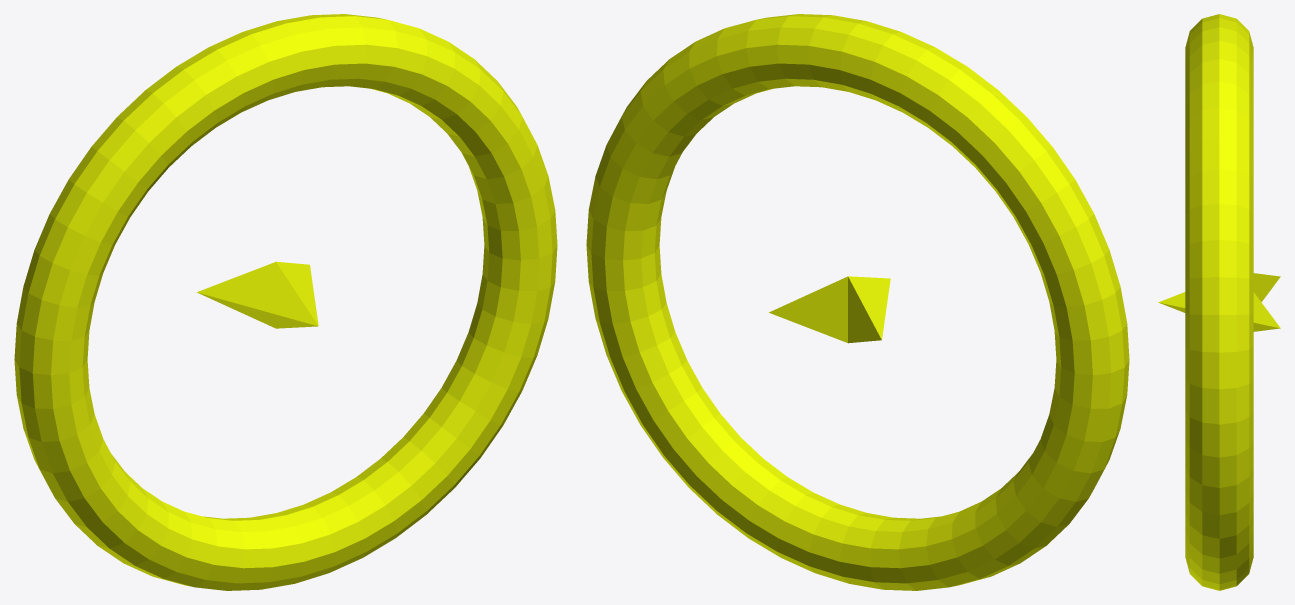
Rendered from ring.obj.
3 renders of one model, left to right at view 1: azimuth 30°, elevation 25°; view 2: azimuth 150°, elevation 25°; view 3: azimuth 270°, elevation 25°, orthographic. The views are drawn at different scales.
Parts seen in each view (by area): view 1: object_トーラス; view 2: object_トーラス; view 3: object_トーラス.
Part boxes in pixels (<box>): object_トーラス: <box>14,14,557,590</box>; object_トーラス: <box>586,14,1129,590</box>; object_トーラス: <box>1158,14,1280,590</box>.
Size of the model in its own units: 227 by 227 by 48.2.
1 material, 1 textured.
